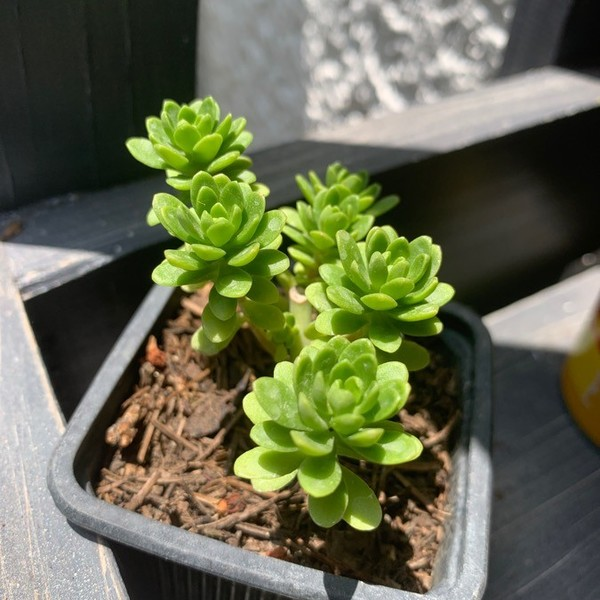obstacle: (51, 90, 498, 596)
